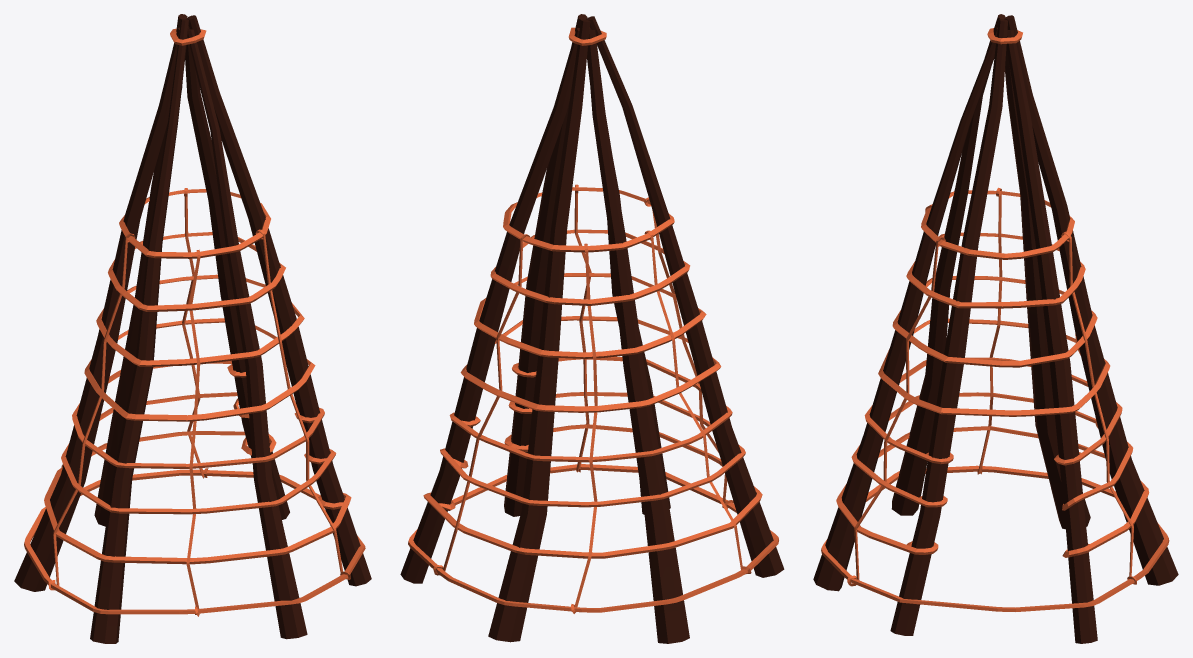
Rendered from SM_FishingTrap_001.fbx.
The picture shows the model from 3 angles, left to right: view 1: azimuth 30°, elevation 25°; view 2: azimuth 150°, elevation 25°; view 3: azimuth 270°, elevation 25°; orthographic projection.
Parts seen in each view (by area): view 1: FishingTrap; view 2: FishingTrap; view 3: FishingTrap.
Boxes of the visible parts, x1,y1,x2,y2 form: FishingTrap: (14,14,371,643); FishingTrap: (400,14,784,643); FishingTrap: (813,14,1178,643).
Size of the model in its own units: 48.2 by 87.96 by 51.38.
